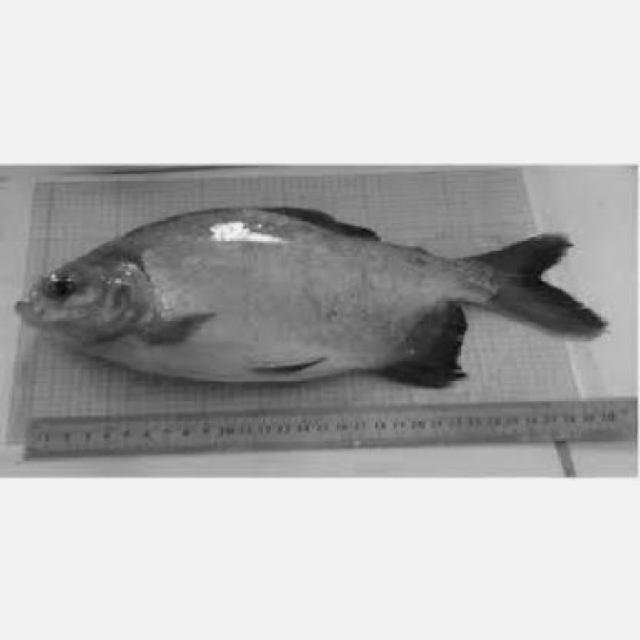ikan-pacu: (13, 204, 590, 383)
